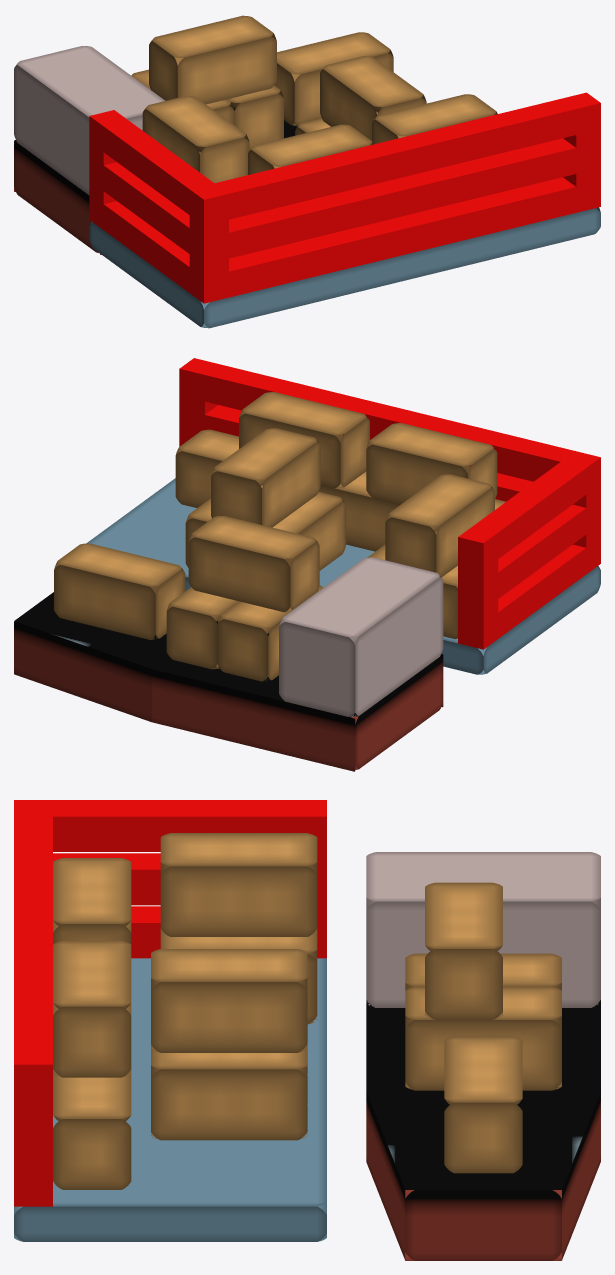
Rendered from port.fbx.
3 renders of one model, top to bottom at view 1: azimuth 30°, elevation 25°; view 2: azimuth 150°, elevation 25°; view 3: azimuth 270°, elevation 25°, orthographic. The views are drawn at different scales.
Visible parts, largest first — view 1: cube; view 2: cube; view 3: cube.
Part boxes in pixels (x1,y1,x2,y2): cube: (14,15,600,328); cube: (14,358,600,771); cube: (14,800,600,1260).
Bounding box in the file's own units: 100 × 37.5 × 93.75.
2 materials, 2 textured.
